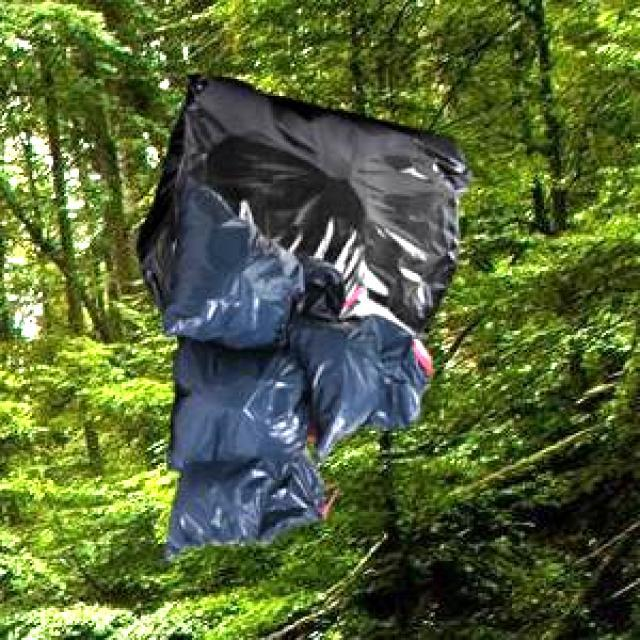Garbage_Bag: (159, 172, 428, 558), (134, 72, 468, 340)
